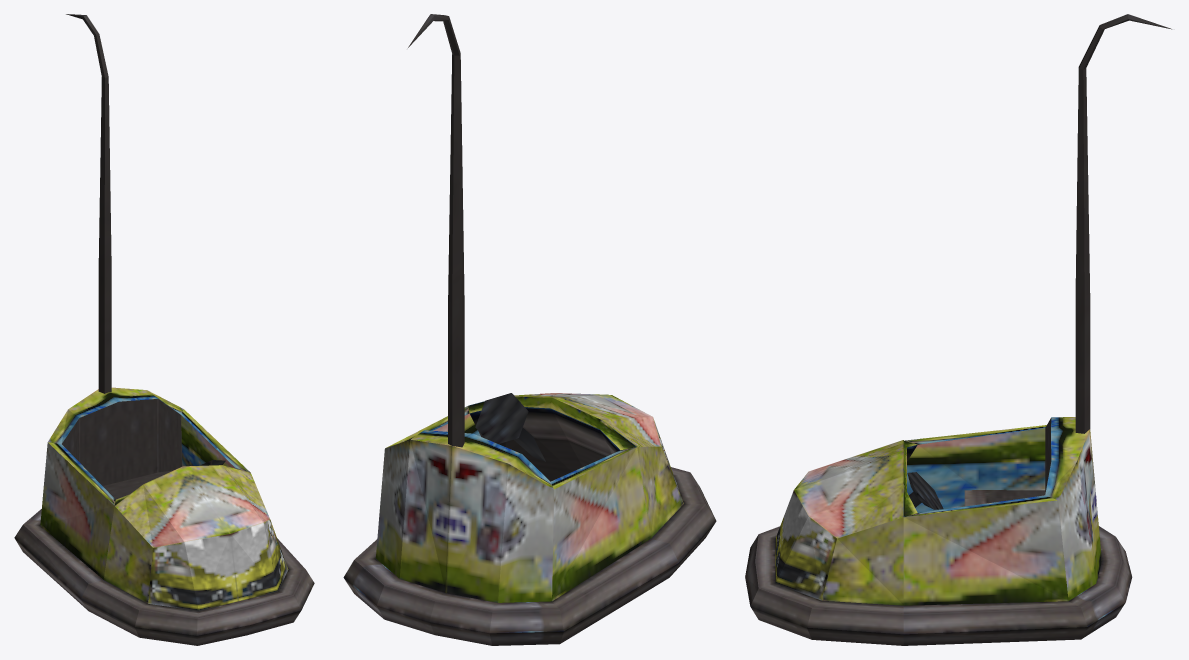
File: BumperCar01d.obj
3 renders of one model, left to right at view 1: azimuth 30°, elevation 25°; view 2: azimuth 150°, elevation 25°; view 3: azimuth 270°, elevation 25°, orthographic. The views are drawn at different scales.
Visible parts, largest first — view 1: BumperCar01d; view 2: BumperCar01d; view 3: BumperCar01d.
Part boxes in pixels (x1,y1,x2,y2): BumperCar01d: [14, 14, 314, 645]; BumperCar01d: [343, 14, 716, 645]; BumperCar01d: [745, 14, 1172, 645].
Size of the model in its own units: 2.52 by 6 by 3.99.
